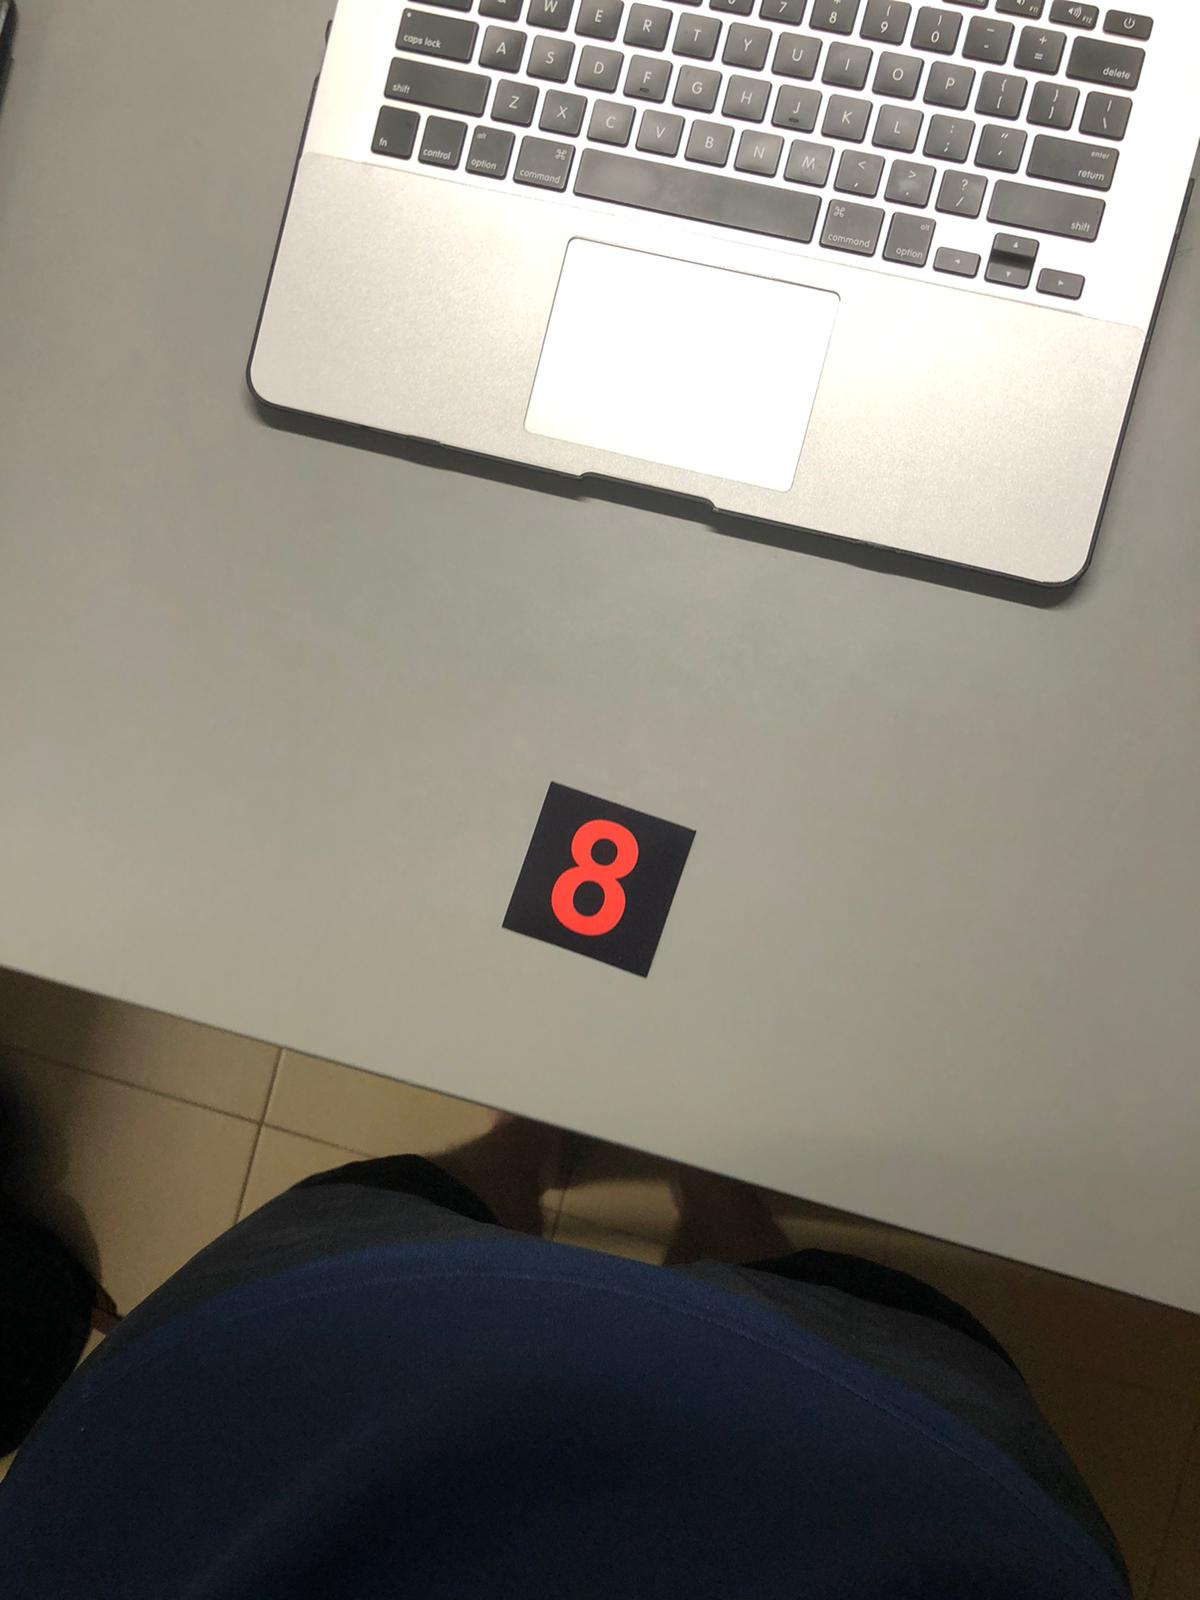Number 8: (531, 805, 671, 961)
